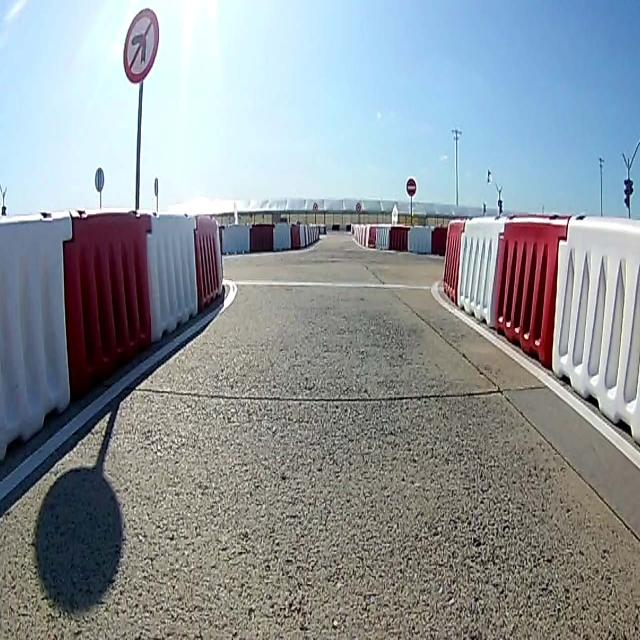girisyok: (405, 173, 418, 199)
soladonulmez: (122, 7, 160, 81)
